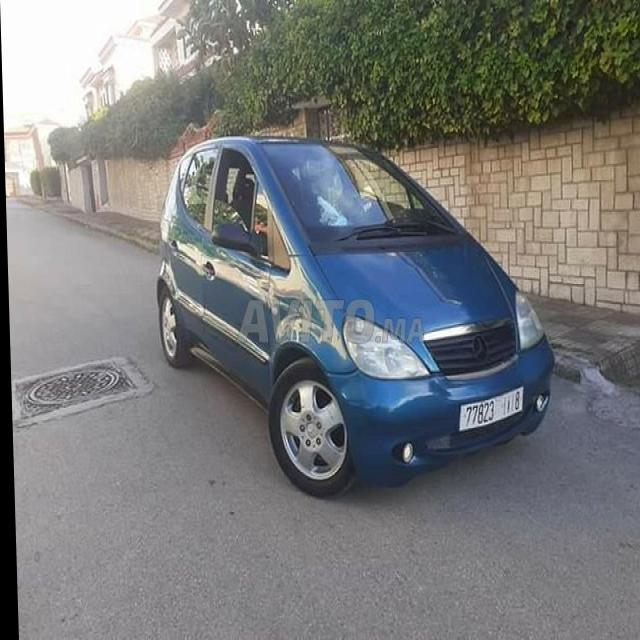License-Plate: (456, 387, 522, 431)
